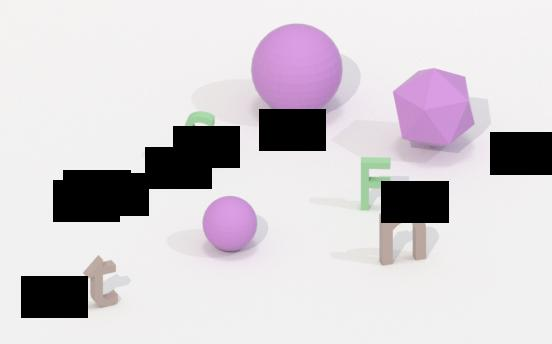F: (356, 153, 399, 214)
cau: (251, 22, 345, 116), (199, 197, 263, 251)
dagiac: (391, 68, 478, 150)
n: (372, 207, 438, 267)
s: (180, 109, 222, 169)
t: (81, 254, 125, 313)
